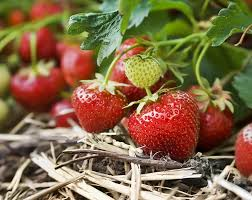ripe: (124, 86, 201, 162), (107, 30, 154, 100), (71, 79, 131, 131), (8, 60, 65, 113), (197, 81, 237, 149), (58, 45, 97, 87), (48, 90, 86, 126), (19, 23, 55, 59), (232, 116, 251, 184)
unripe: (123, 54, 168, 86)
